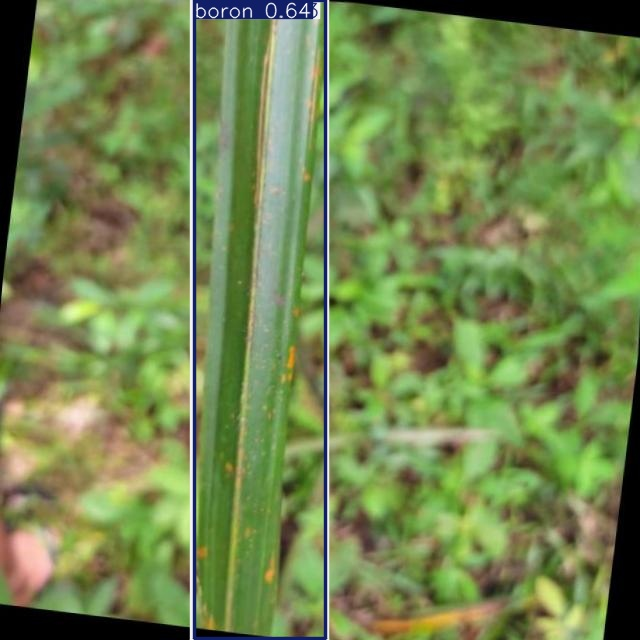Kalium: (192, 0, 327, 640)
nitrogen: (195, 0, 325, 639)
